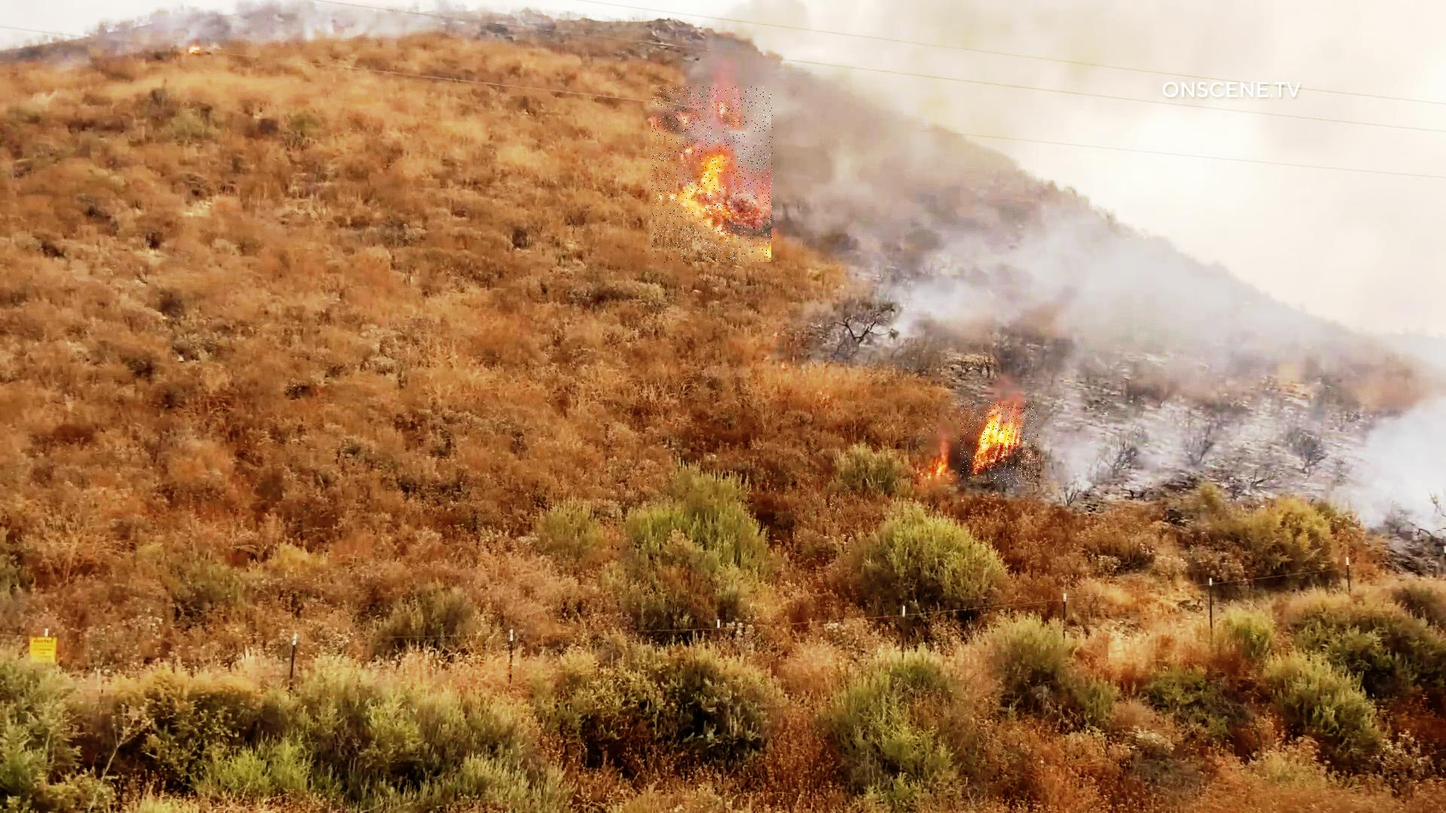fire: (652, 87, 773, 264), (961, 401, 1038, 483)
